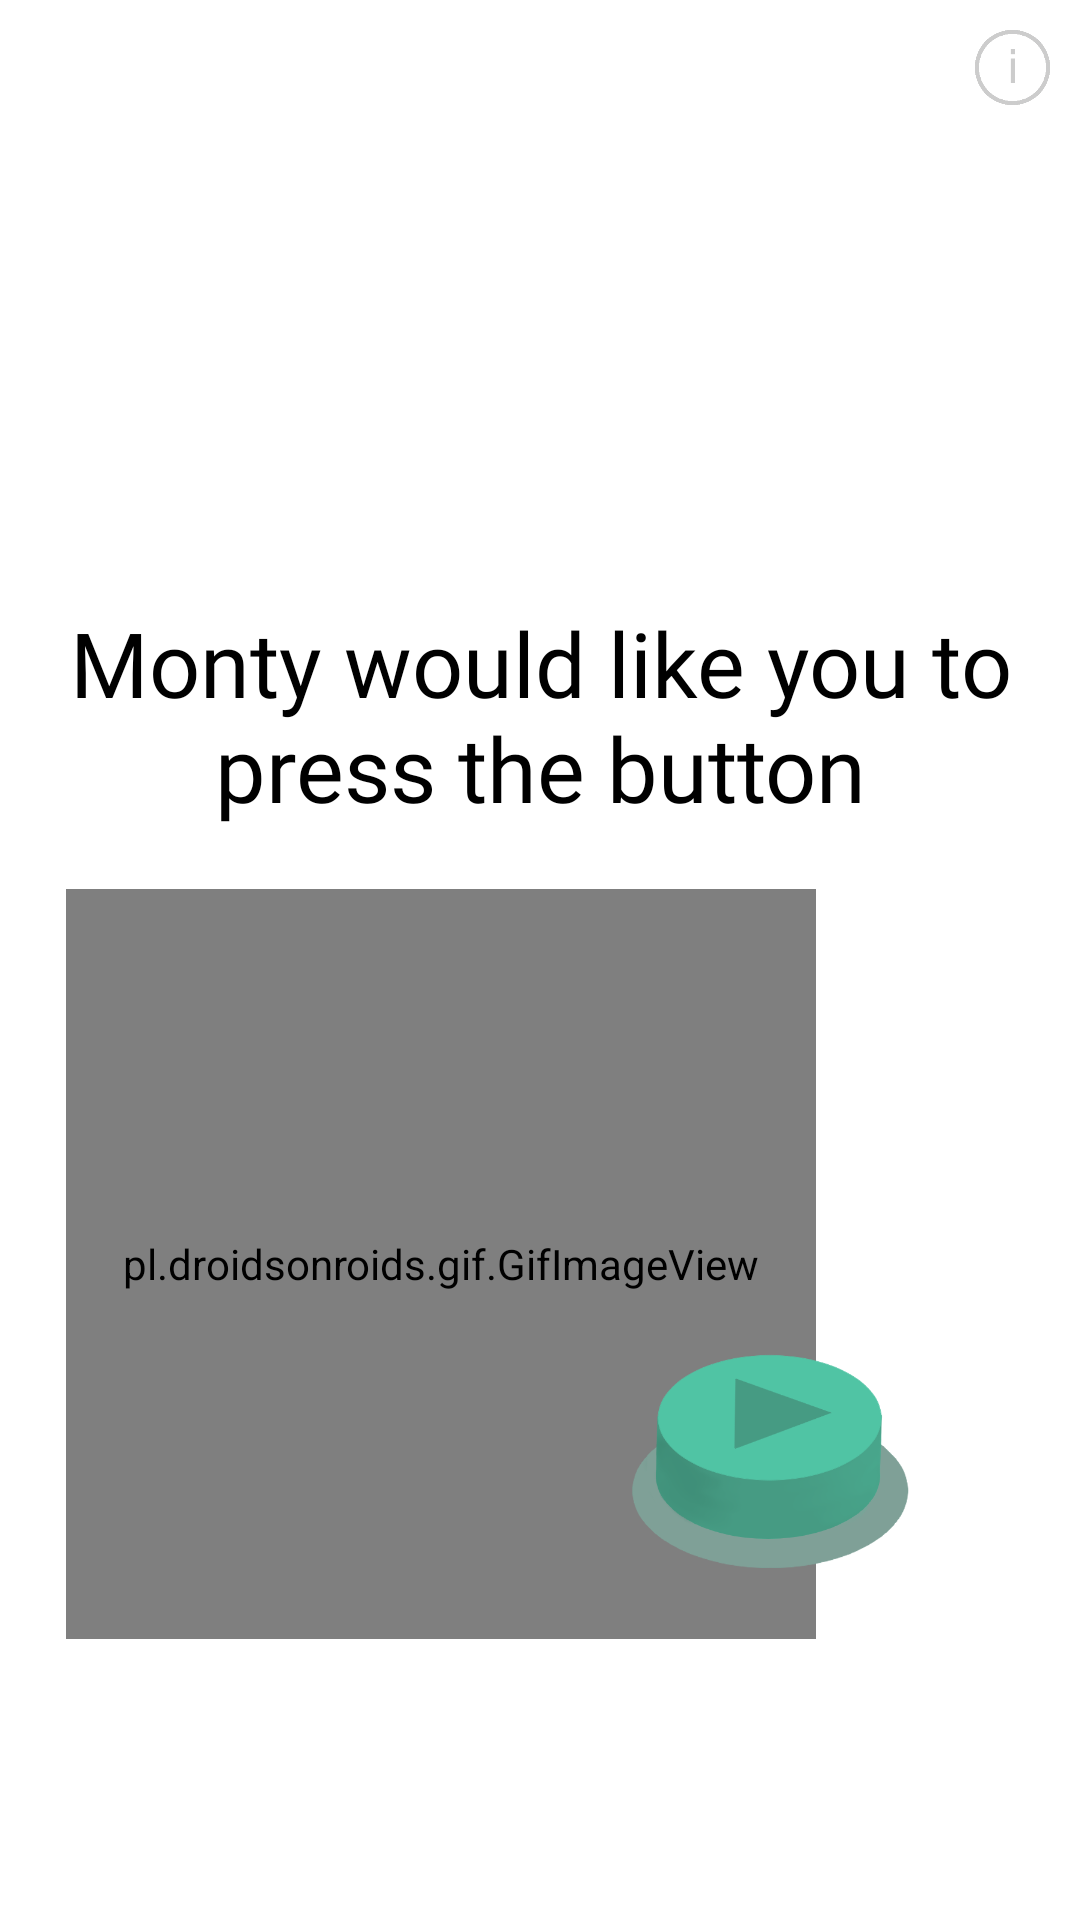

Where icons sit on this 1080x1920 app screen, as bbox=[x1, y1, x2, y2]:
info: bbox=[975, 30, 1050, 105]
